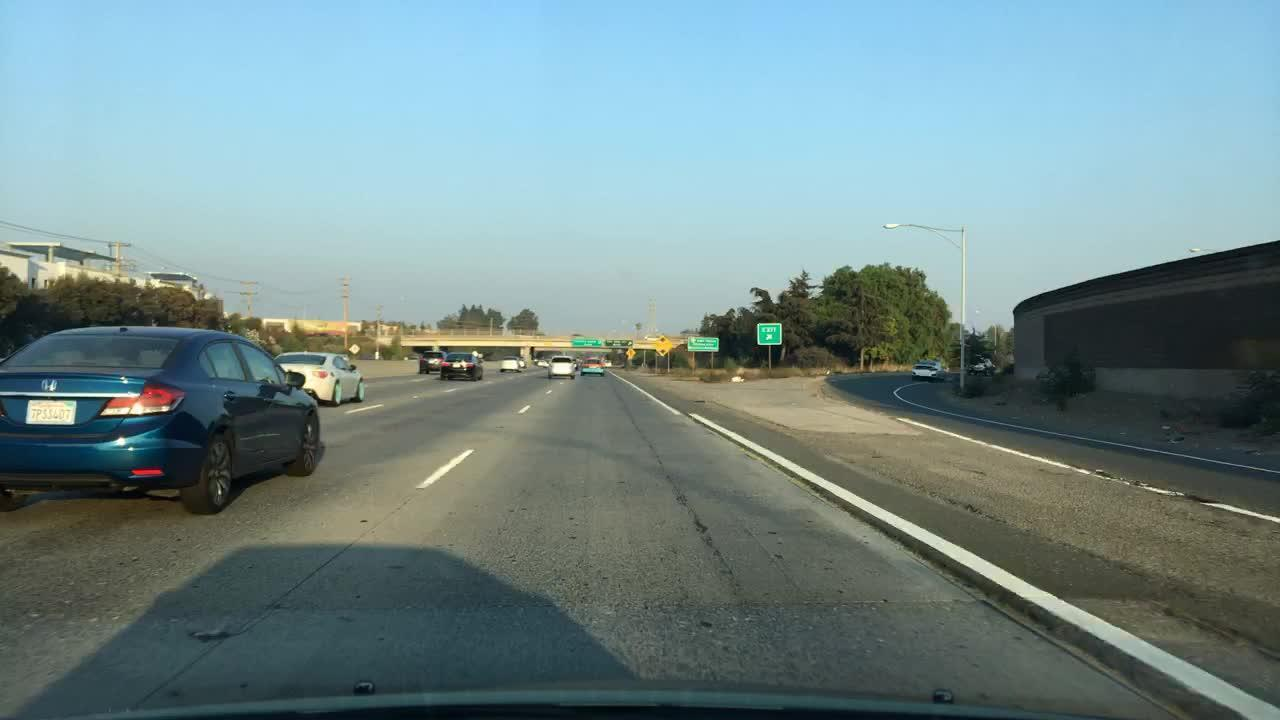Honda: (34, 371, 68, 398)
